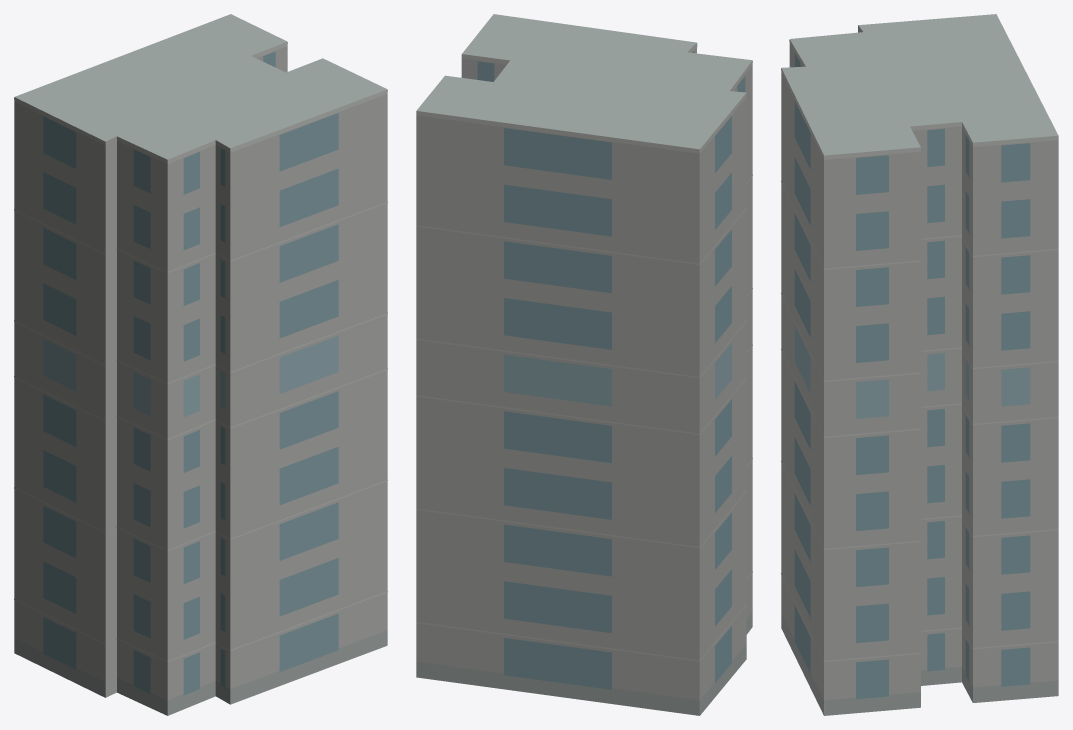
File: survey-upis-32861820.glb
3 views of the same model, side by side, from view 1: azimuth 30°, elevation 25°; view 2: azimuth 150°, elevation 25°; view 3: azimuth 270°, elevation 25° (orthographic).
Visible parts, largest first — view 1: survey-upis-32861820.tmp; view 2: survey-upis-32861820.tmp; view 3: survey-upis-32861820.tmp.
Boxes of the visible parts, box(x1,y1,x2,y2) form: survey-upis-32861820.tmp: box(14, 14, 387, 715); survey-upis-32861820.tmp: box(416, 14, 752, 715); survey-upis-32861820.tmp: box(781, 14, 1058, 715).
Bounding box in the file's own units: 16.55 × 30.5 × 13.7.
